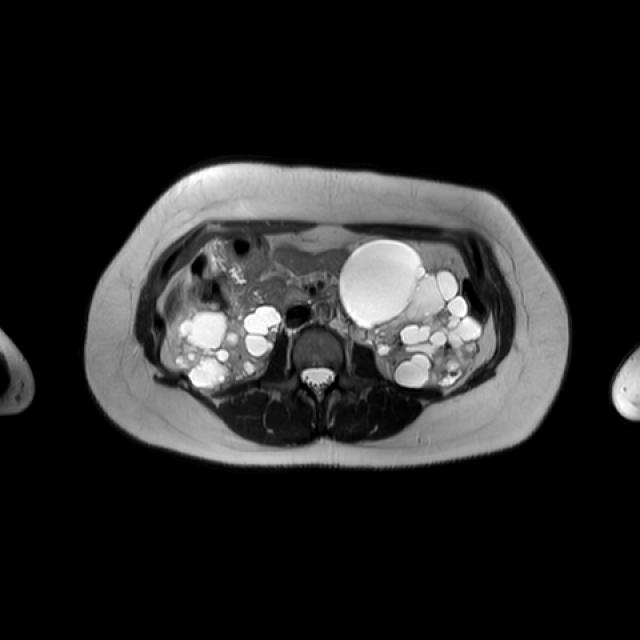sag: (177, 304, 282, 391)
sol: (338, 239, 485, 386)
